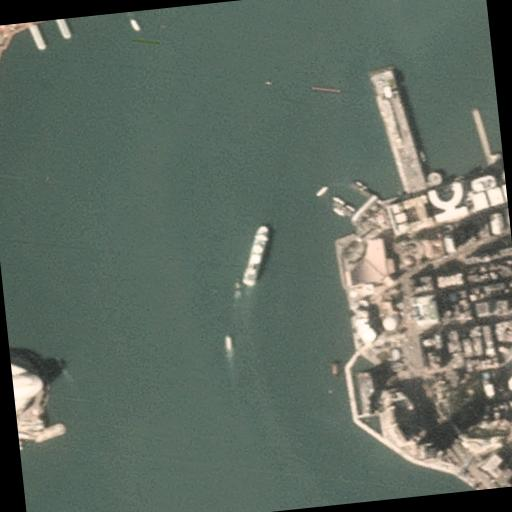ship: (236, 226, 276, 286), (222, 334, 234, 355), (128, 18, 142, 36), (314, 184, 328, 198), (330, 360, 340, 378), (332, 206, 344, 218), (331, 196, 345, 206), (418, 150, 426, 164), (345, 204, 356, 214)
